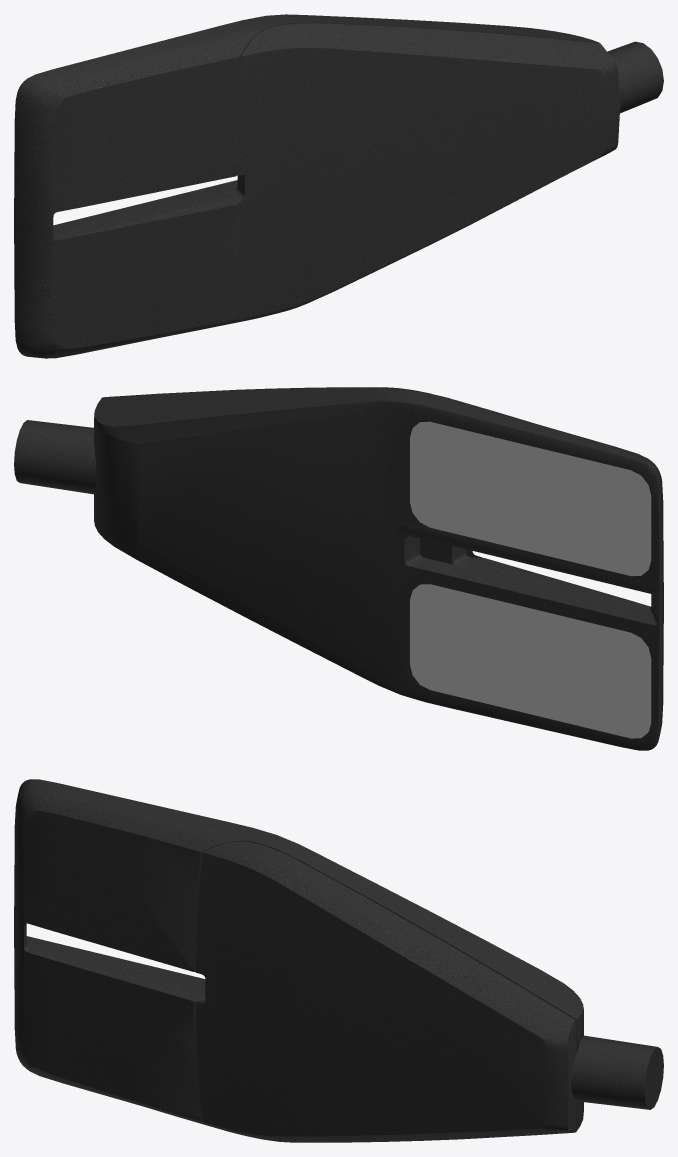
The model's file is Streetlight 11 Midi.obj.
The picture shows the model from 3 angles, top to bottom: view 1: azimuth 30°, elevation 25°; view 2: azimuth 150°, elevation 25°; view 3: azimuth 330°, elevation 25°; orthographic projection. The views are drawn at different scales.
Parts seen in each view (by area): view 1: Siteco_Streetlight_11_Midi_Cylinder; view 2: Siteco_Streetlight_11_Midi_Cylinder; view 3: Siteco_Streetlight_11_Midi_Cylinder.
Part boxes in pixels (x1,y1,x2,y2): Siteco_Streetlight_11_Midi_Cylinder: (14, 14, 663, 358); Siteco_Streetlight_11_Midi_Cylinder: (14, 387, 663, 750); Siteco_Streetlight_11_Midi_Cylinder: (14, 779, 663, 1142).
Bounding box in the file's own units: 0.8603 × 0.376 × 0.1186.
Materials: 3 (2 with a texture image).
